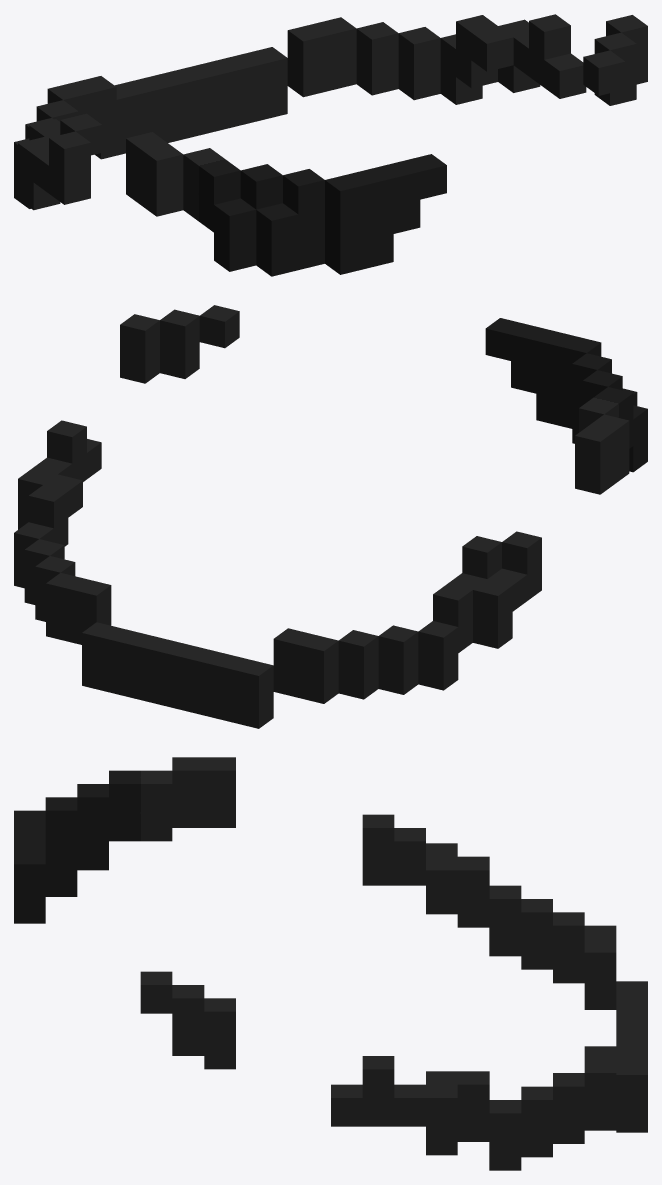
The model's file is eye patch_yellow hard hat.gltf.
3 views of the same model, one above another, from view 1: azimuth 30°, elevation 25°; view 2: azimuth 150°, elevation 25°; view 3: azimuth 270°, elevation 25° (orthographic). The views are drawn at different scales.
Visible parts, largest first — view 1: D02_E_YHardHat_EyePatch-Mesh; view 2: D02_E_YHardHat_EyePatch-Mesh; view 3: D02_E_YHardHat_EyePatch-Mesh.
Boxes of the visible parts, x1,y1,x2,y2 form: D02_E_YHardHat_EyePatch-Mesh: (14, 14, 647, 276); D02_E_YHardHat_EyePatch-Mesh: (14, 305, 647, 728); D02_E_YHardHat_EyePatch-Mesh: (14, 757, 647, 1170).
Size of the model in its own units: 19 by 7 by 20.
Materials: 1 (1 with a texture image).
